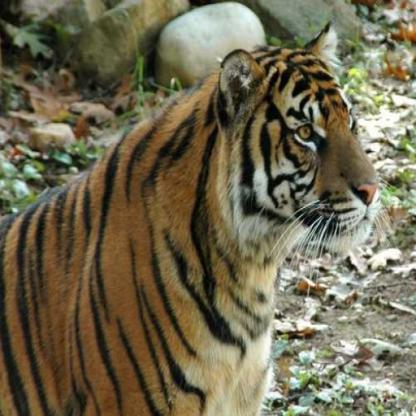Tiger: (7, 36, 412, 416)
